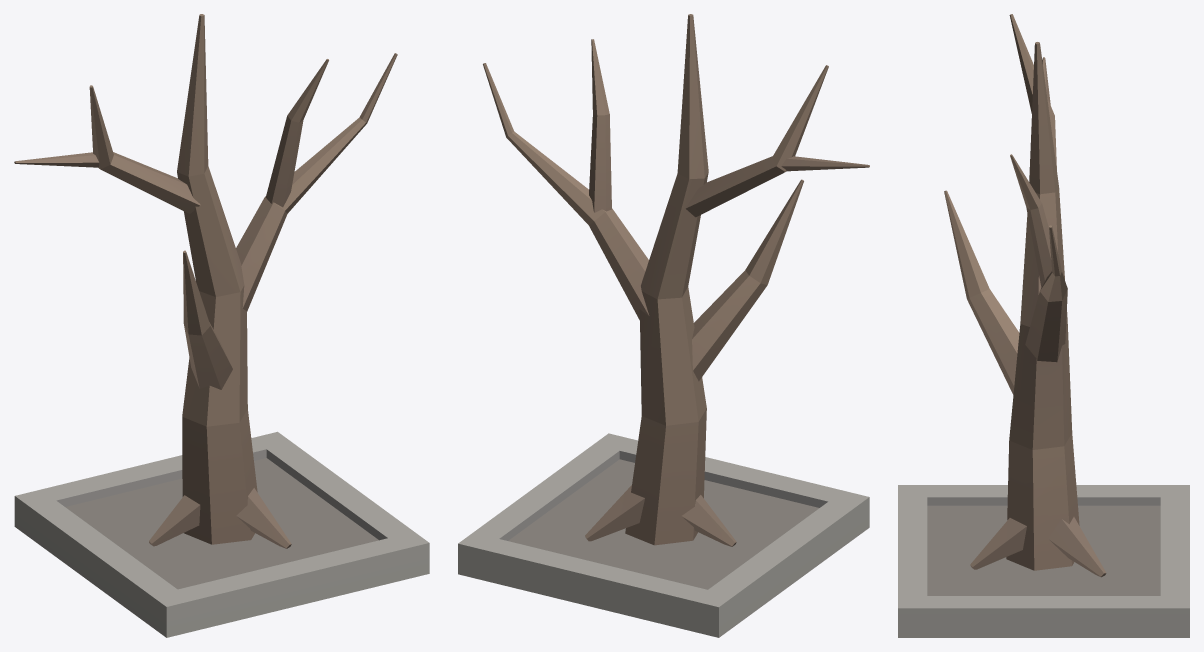
The model's file is AC_PlanterTree.glb.
3 views of the same model, side by side, from view 1: azimuth 30°, elevation 25°; view 2: azimuth 150°, elevation 25°; view 3: azimuth 270°, elevation 25° (orthographic). The views are drawn at different scales.
Visible parts, largest first — view 1: Body; view 2: Body; view 3: Body.
Part boxes in pixels (x1,y1,x2,y2): Body: (14,14,429,637); Body: (458,14,869,637); Body: (898,14,1189,637).
Bounding box in the file's own units: 11.74 × 15.95 × 8.
